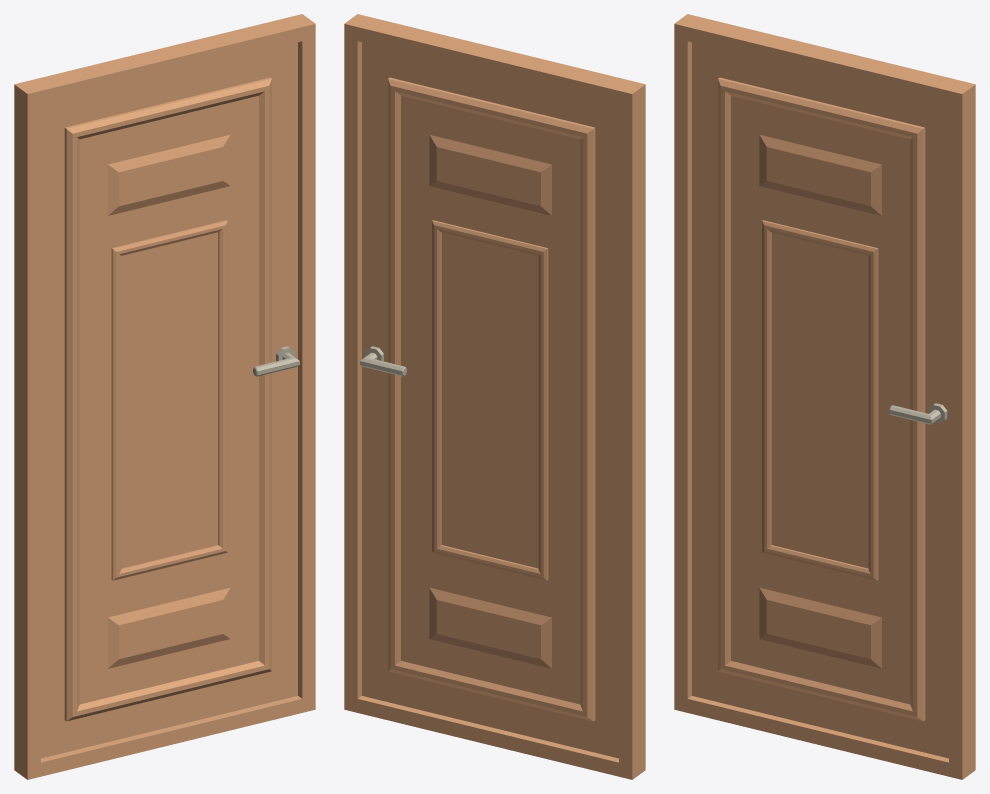
File: Mesh_Door_C13.fbx
The picture shows the model from 3 angles, left to right: view 1: azimuth 30°, elevation 25°; view 2: azimuth 150°, elevation 25°; view 3: azimuth 330°, elevation 25°; orthographic projection.
Visible parts, largest first — view 1: Mesh_Door_C13; view 2: Mesh_Door_C13; view 3: Mesh_Door_C13.
Part boxes in pixels (x1,y1,x2,y2): Mesh_Door_C13: (14, 14, 315, 779); Mesh_Door_C13: (344, 14, 645, 779); Mesh_Door_C13: (674, 14, 975, 779).
Bounding box in the file's own units: 0.9 × 2.05 × 0.1524.
